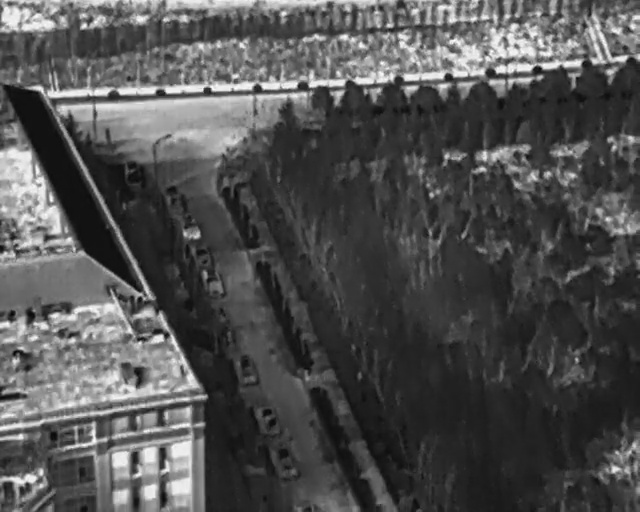Car: (264, 437, 303, 486), (252, 400, 284, 442), (196, 263, 228, 302), (188, 236, 218, 268), (177, 210, 204, 243), (238, 349, 260, 387), (122, 158, 143, 193), (161, 182, 184, 211)
